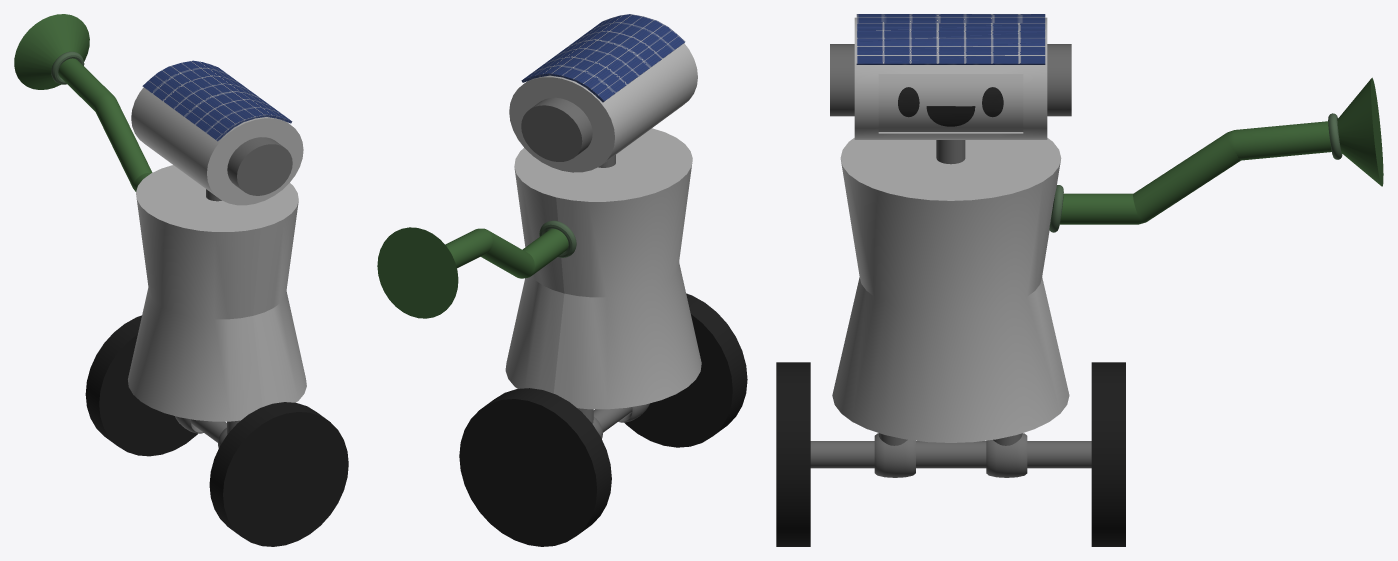
Rendered from robot_merged.gltf.
The picture shows the model from 3 angles, left to right: view 1: azimuth 30°, elevation 25°; view 2: azimuth 150°, elevation 25°; view 3: azimuth 270°, elevation 25°; orthographic projection. The views are drawn at different scales.
Parts seen in each view (by area): view 1: robot, robot_arm; view 2: robot, robot_arm; view 3: robot, robot_arm.
Boxes of the visible parts, left/top/right/bottom form: robot: left=85, top=60, right=348, bottom=546; robot_arm: left=14, top=14, right=152, bottom=191; robot: left=459, top=14, right=747, bottom=546; robot_arm: left=377, top=220, right=576, bottom=318; robot: left=776, top=14, right=1125, bottom=546; robot_arm: left=1049, top=77, right=1383, bottom=232.
Size of the model in its own units: 3.42 by 8.63 by 9.21.
7 materials, 1 textured.
